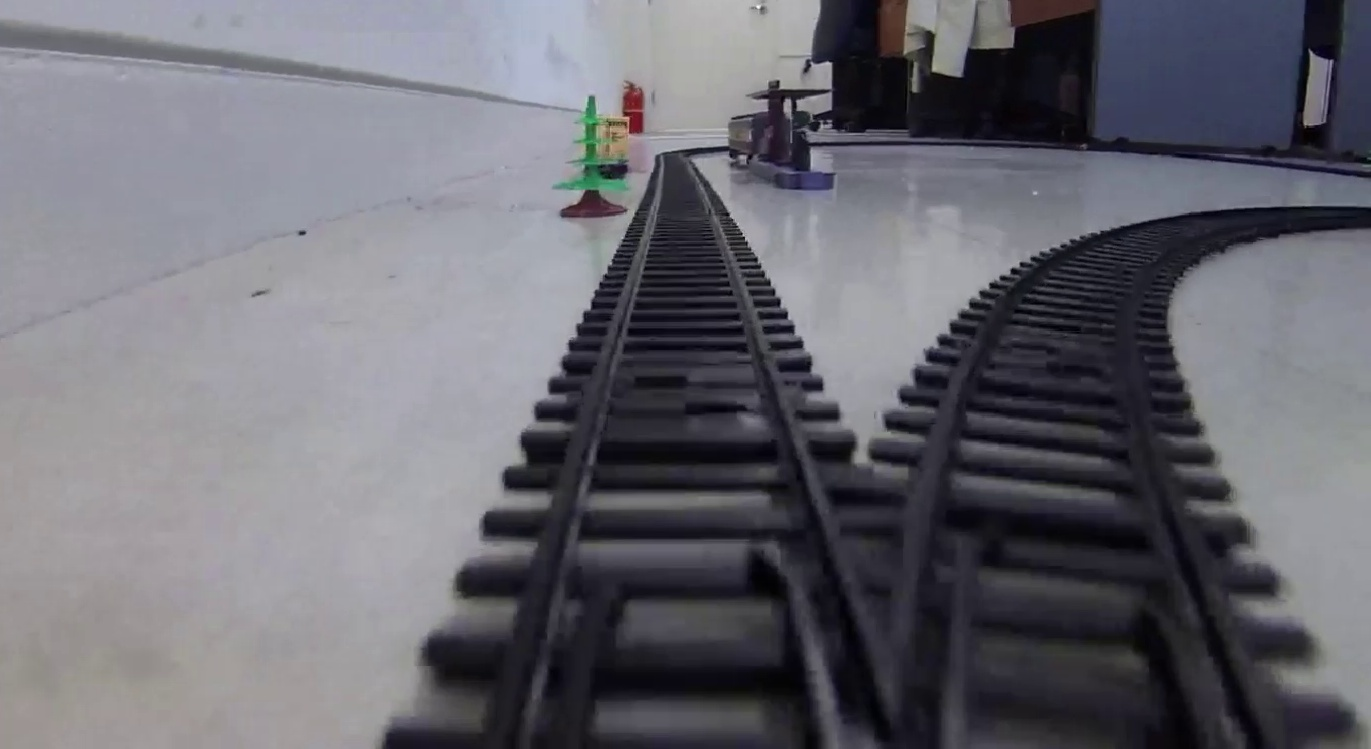tree: (552, 93, 628, 216)
